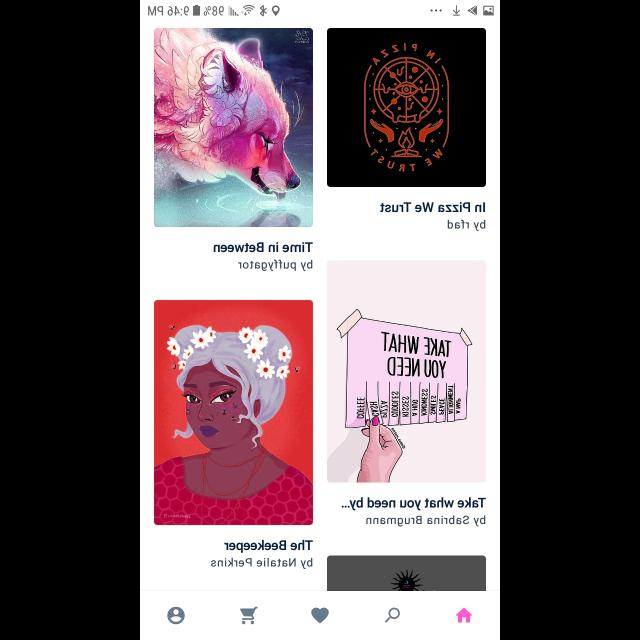icon: (239, 606, 257, 626), (167, 607, 185, 625), (311, 608, 329, 624), (456, 608, 472, 624), (384, 608, 400, 622)
image: (154, 300, 314, 526), (326, 260, 486, 482), (154, 29, 312, 228), (326, 29, 486, 188), (326, 556, 486, 590)
text: (342, 497, 486, 511), (366, 515, 486, 527), (224, 539, 312, 553), (211, 557, 313, 569), (213, 242, 313, 254), (379, 202, 485, 212), (238, 260, 314, 272), (446, 220, 486, 232)
uppertaskbar: (140, 1, 500, 17)
